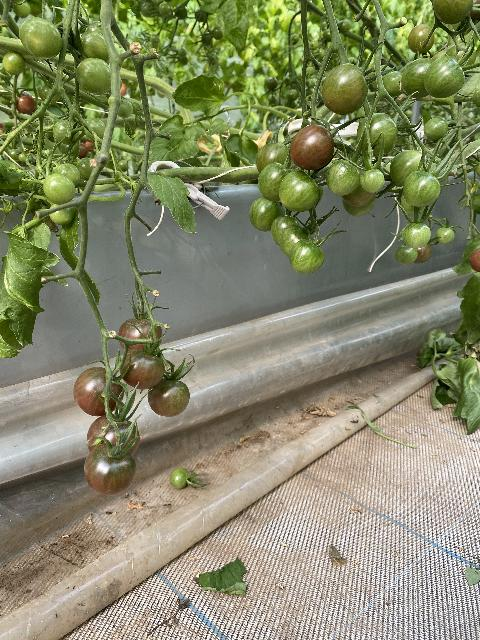l_fully_ripened: (86, 415, 140, 457), (288, 125, 334, 171), (118, 317, 163, 353), (469, 248, 480, 272)
l_green: (321, 63, 368, 115), (19, 16, 63, 60), (279, 169, 322, 213), (423, 55, 466, 99), (356, 112, 397, 157), (403, 170, 441, 208), (390, 149, 426, 189), (75, 58, 112, 96), (258, 162, 292, 202), (402, 57, 435, 98), (326, 160, 361, 197), (255, 142, 295, 174), (289, 239, 324, 275), (249, 197, 286, 231), (280, 225, 315, 259), (432, 0, 475, 25), (43, 173, 76, 204), (80, 30, 110, 62), (271, 213, 300, 246), (342, 182, 376, 207), (342, 193, 377, 217), (446, 44, 476, 71), (399, 190, 428, 216), (402, 222, 431, 248), (53, 119, 80, 143), (360, 169, 385, 194), (423, 116, 448, 141), (2, 51, 25, 76), (56, 163, 81, 186), (383, 72, 405, 97), (84, 118, 105, 143), (48, 204, 73, 224), (395, 244, 418, 264), (357, 105, 378, 125), (39, 85, 60, 104), (169, 467, 188, 488), (77, 157, 95, 179), (435, 226, 455, 244), (117, 99, 133, 118)
l_half_ripened: (84, 442, 137, 495), (73, 367, 123, 417), (118, 349, 165, 390), (147, 380, 190, 417), (407, 24, 435, 54), (13, 91, 36, 114), (414, 244, 430, 263)
